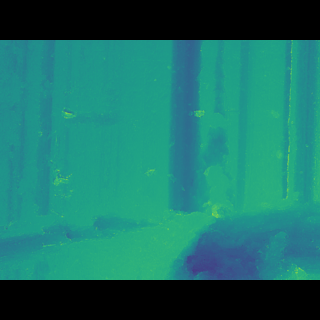Loch: (0, 183, 320, 250), (0, 97, 149, 140), (189, 79, 242, 197), (251, 124, 305, 166)
